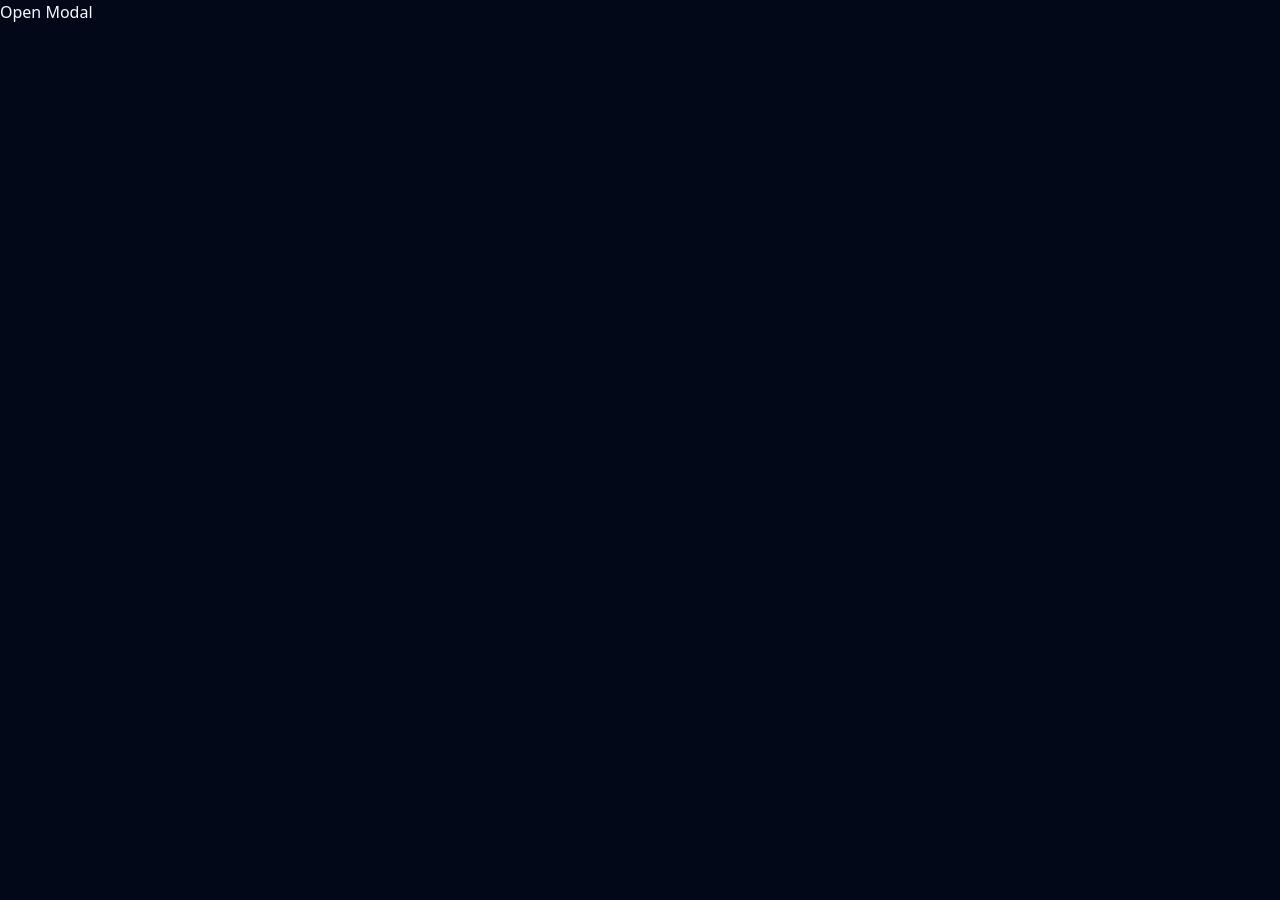
Test: Dialog组件系统 › 基础打开和关闭 › 应该支持点击遮罩层关闭
Later steps or results of the test are not shown.
Click the button "Open Modal".
click(46, 12)  # box x1=0 y1=0 x2=92 y2=24
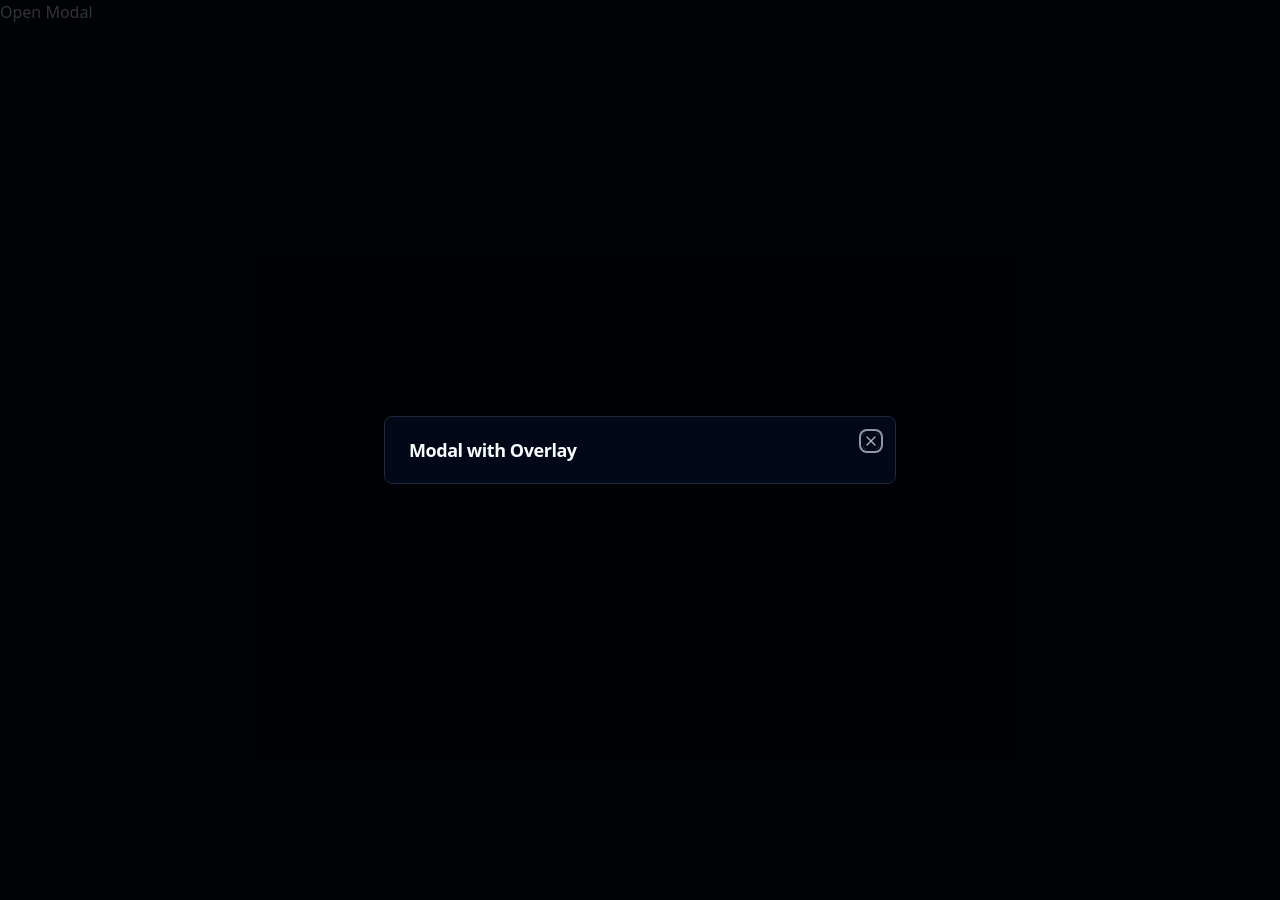
Expected: the dialog is shown, x1=384 y1=416 x2=896 y2=484
